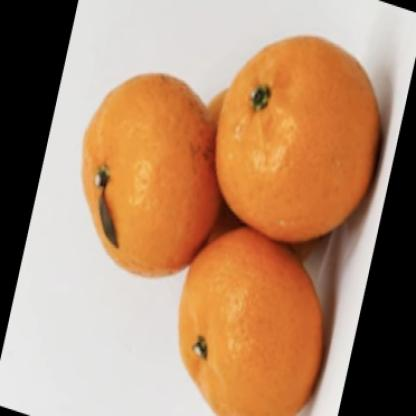fresh: (85, 35, 378, 416)
